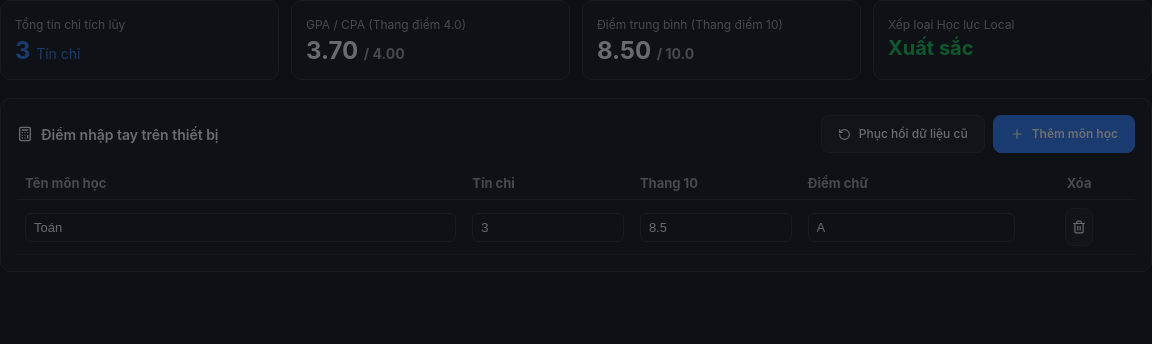
it: GpaCalculator UI Integration Tests (CA-088.02) › thêm hàng Pending không làm tụt GPA
Expected: the text "3.70" is shown, [306,36,358,65]
Click the button "Thêm môn học" at (1064, 134), box [993,115,1135,153]
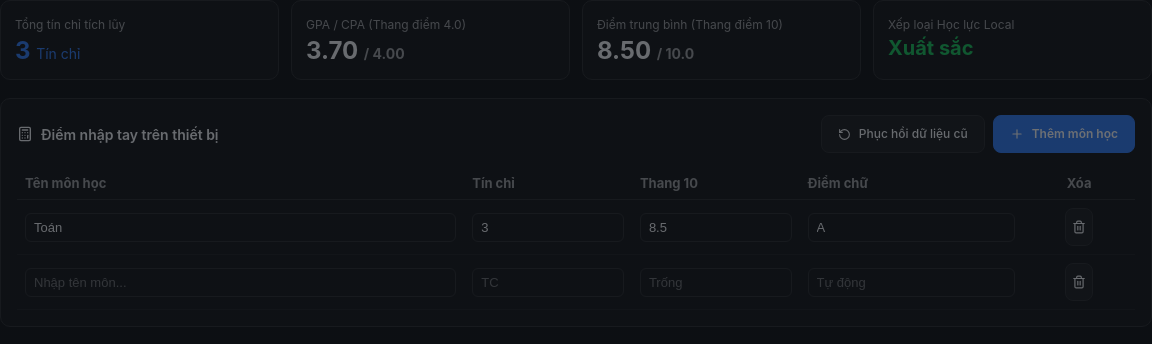
Expected: the text "3.70" is shown, [306,36,358,65]
Expected: the number of fields with placeholder "Nhập tên môn..." is 2, [25,212,456,242]; [25,268,456,296]
